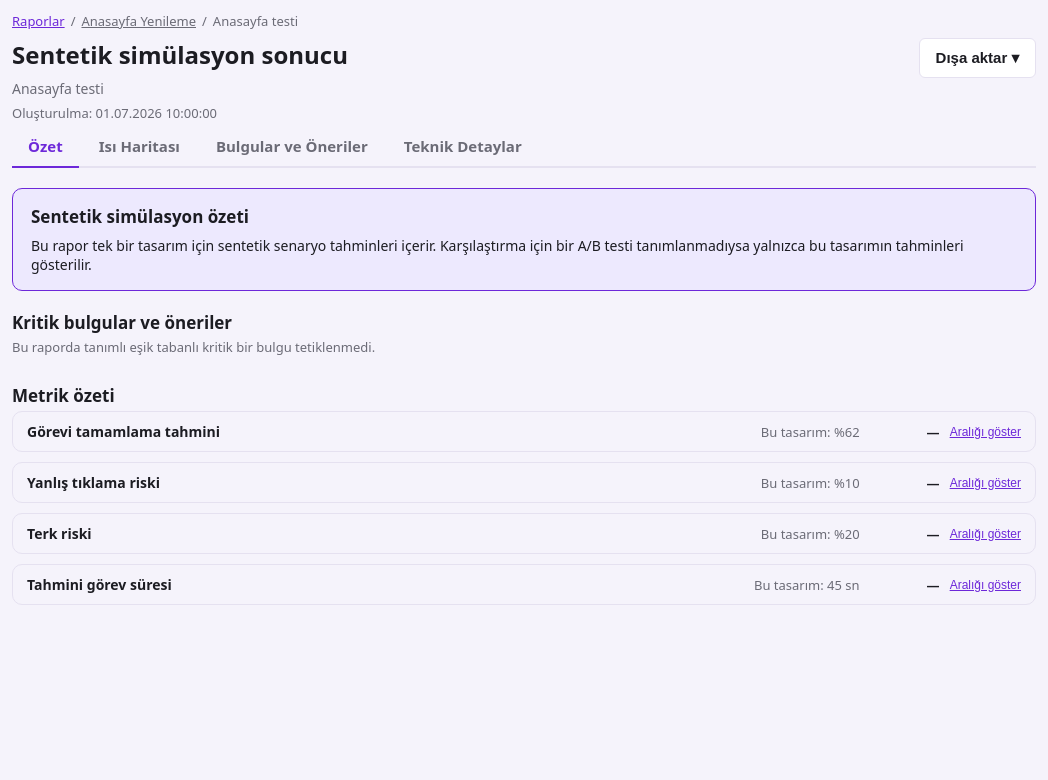
Test case: ReportDetail — AI tıklama tahmini › empty durumunda güçlü eşleşme yok uyarısı gösterilir, sahte hotspot çizilmez
Expected: the tab "Özet" is shown, [12,126,79,168]
What coordinates should you click on to do the following:
click the tab "Isı Haritası"
I would click on:
 (139, 147)
Its box is [83,126,196,168].
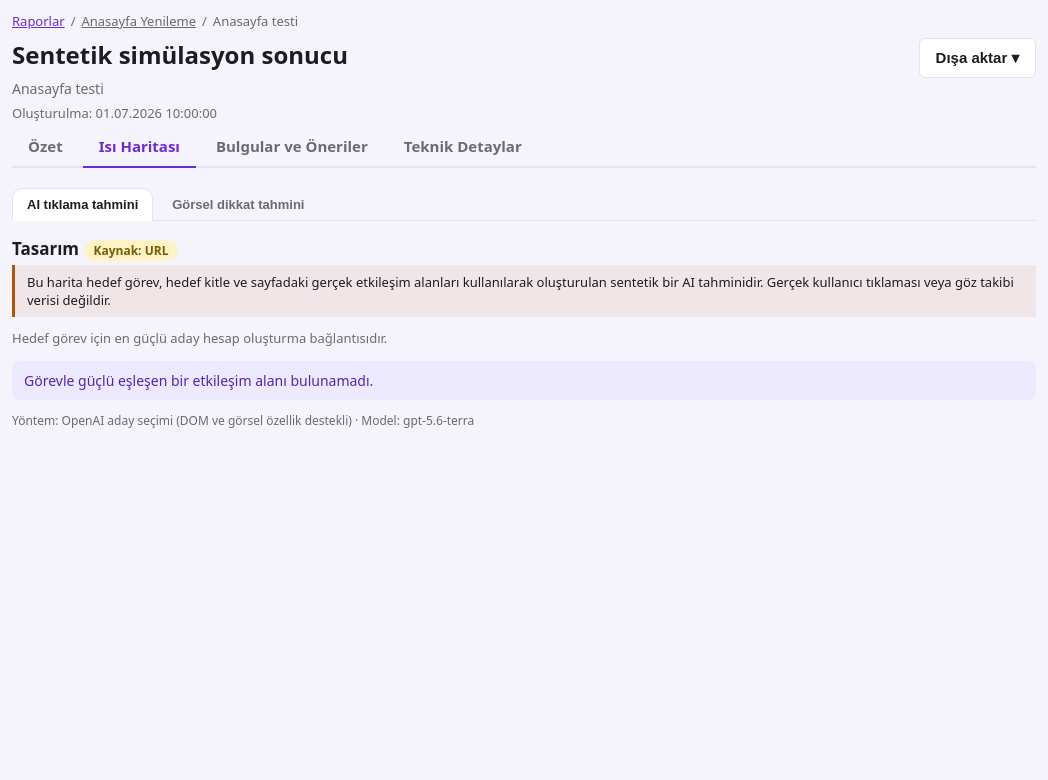
Now the text "Görevle güçlü eşleşen bir etkileşim alanı bulunamadı." is shown, box [12,361,1036,400]
